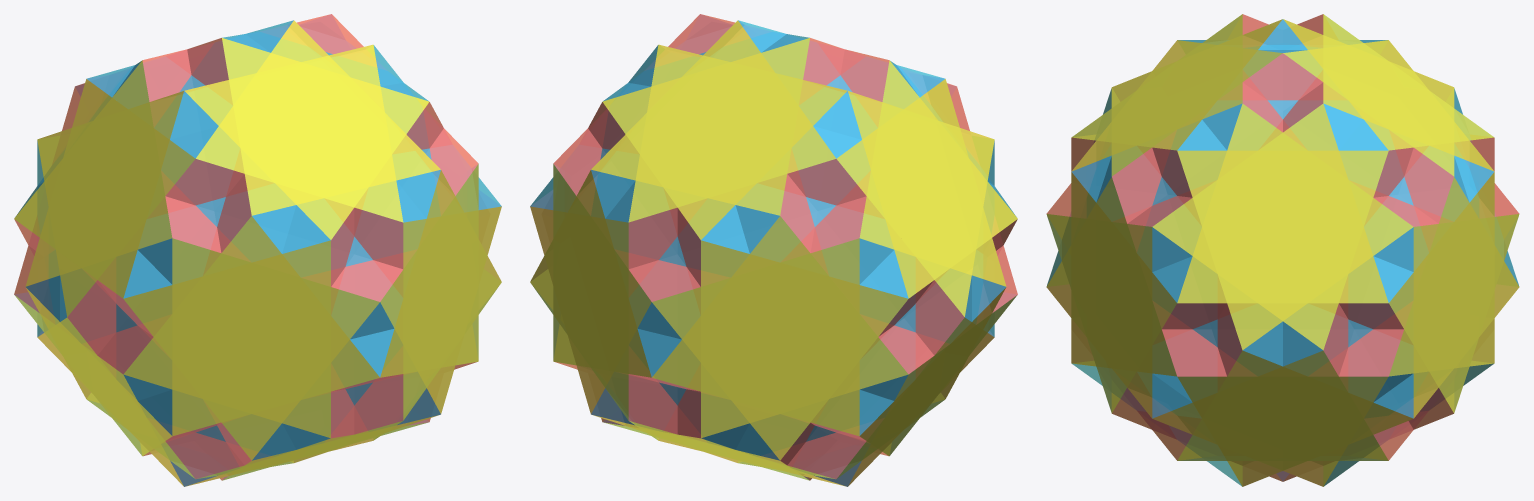
File: GreatDitrigonalDodecicosidodecahedron.obj
3 views of the same model, side by side, from view 1: azimuth 30°, elevation 25°; view 2: azimuth 150°, elevation 25°; view 3: azimuth 270°, elevation 25° (orthographic). The views are drawn at different scales.
Bounding box in the file's own units: 2.24 × 2.24 × 2.24.
